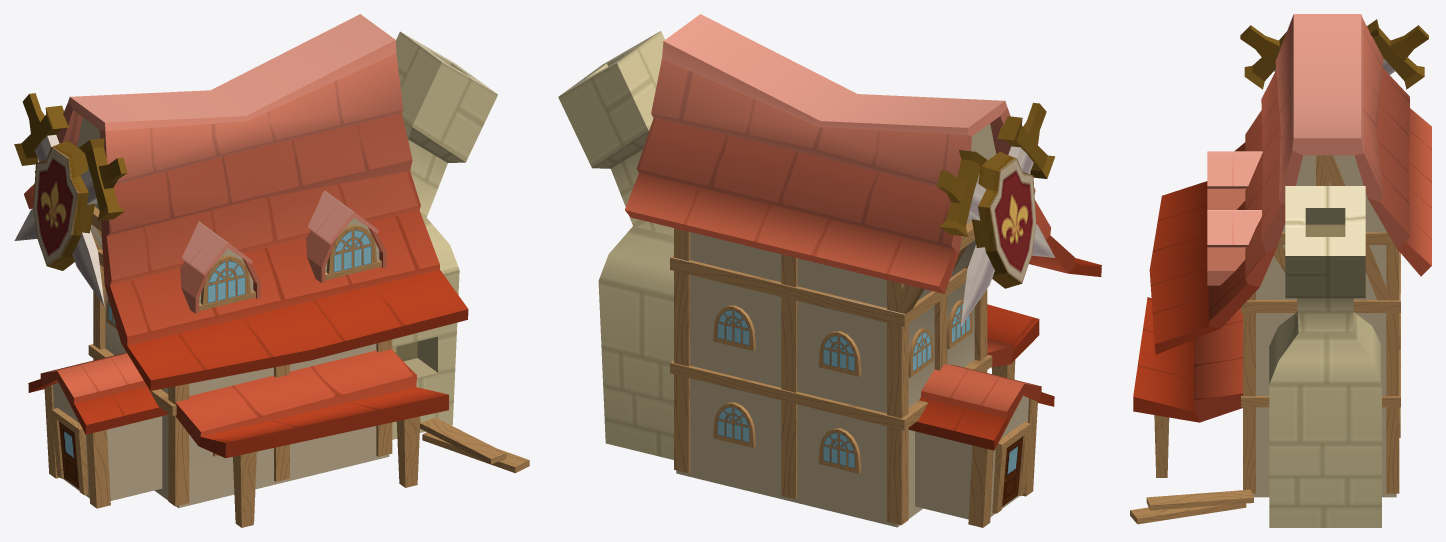
The model's file is building_weapon_lv5.FBX.
3 renders of one model, left to right at view 1: azimuth 30°, elevation 25°; view 2: azimuth 150°, elevation 25°; view 3: azimuth 270°, elevation 25°, orthographic. The views are drawn at different scales.
Visible parts, largest first — view 1: building_weapon_roof_lv5, building_weapon_lv5, building_weapon_main_lv5; view 2: building_weapon_roof_lv5, building_weapon_main_lv5, building_weapon_lv5; view 3: building_weapon_roof_lv5, building_weapon_main_lv5, building_weapon_lv5.
Part boxes in pixels (bbox=[...]): building_weapon_roof_lv5: bbox=[24, 14, 468, 458]; building_weapon_lv5: bbox=[14, 93, 529, 527]; building_weapon_main_lv5: bbox=[53, 31, 497, 507]; building_weapon_roof_lv5: bbox=[625, 14, 1101, 450]; building_weapon_main_lv5: bbox=[558, 31, 1028, 527]; building_weapon_lv5: bbox=[670, 102, 1055, 527]; building_weapon_roof_lv5: bbox=[1133, 14, 1431, 422]; building_weapon_main_lv5: bbox=[1252, 155, 1396, 527]; building_weapon_lv5: bbox=[1130, 19, 1428, 524].
Bounding box in the file's own units: 627 × 551 × 403.
